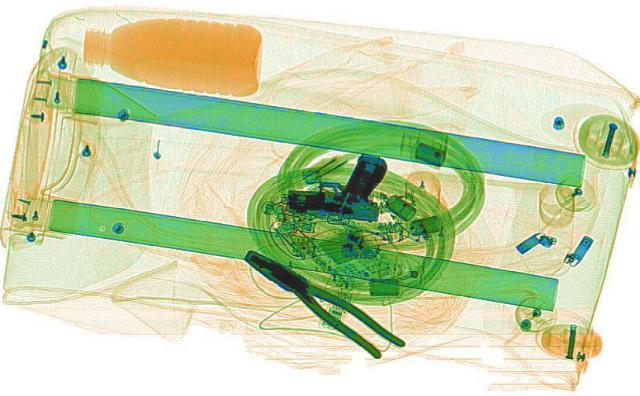Gun: (277, 146, 398, 220)
Pliers: (226, 242, 410, 357)
